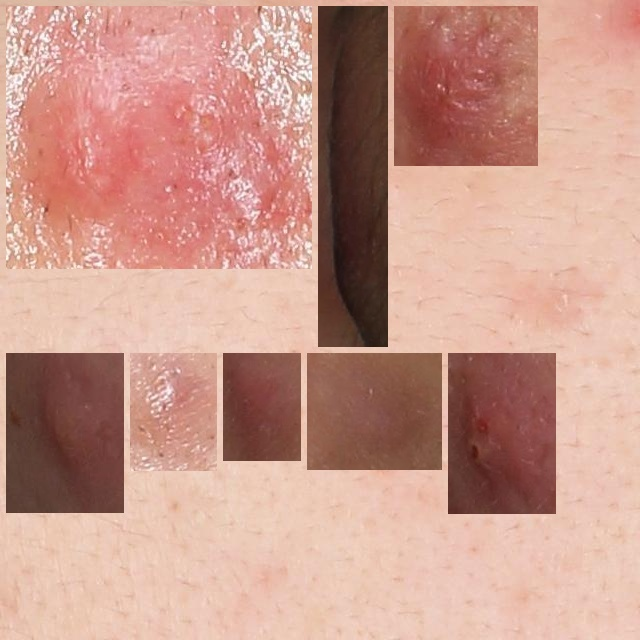nodule: (14, 14, 304, 261), (402, 14, 530, 158), (326, 14, 380, 339), (14, 361, 116, 505), (456, 361, 548, 506), (315, 361, 434, 462), (138, 361, 209, 463), (231, 361, 293, 453)
